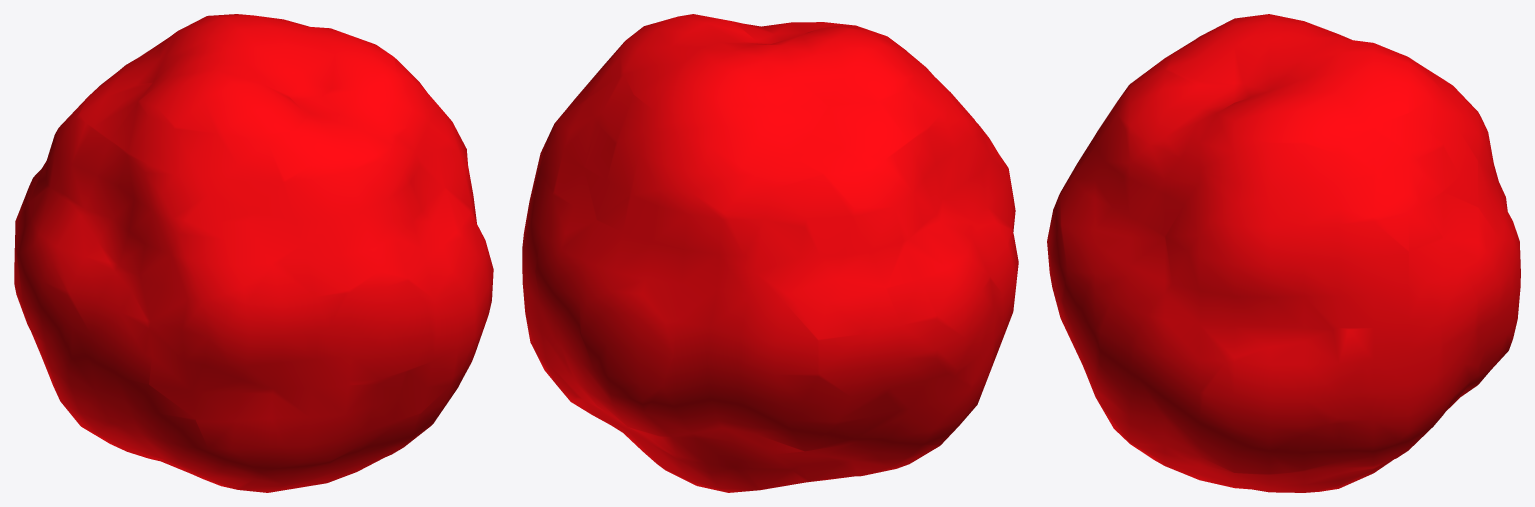
File: ThwampBossModel.fbx
3 renders of one model, left to right at view 1: azimuth 30°, elevation 25°; view 2: azimuth 150°, elevation 25°; view 3: azimuth 270°, elevation 25°, orthographic. The views are drawn at different scales.
Visible parts, largest first — view 1: Mball.001; view 2: Mball.001; view 3: Mball.001.
Part boxes in pixels (x1,y1,x2,y2): Mball.001: (14, 14, 493, 492); Mball.001: (522, 14, 1018, 492); Mball.001: (1047, 14, 1520, 492).
Bounding box in the file's own units: 551 × 521 × 544.
